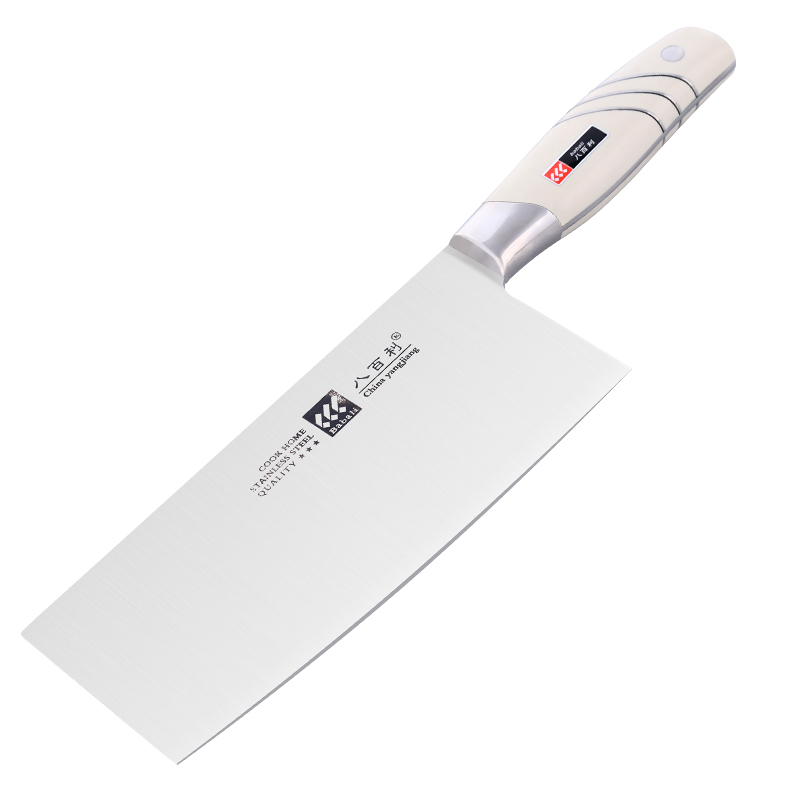knief: (47, 35, 761, 743)
